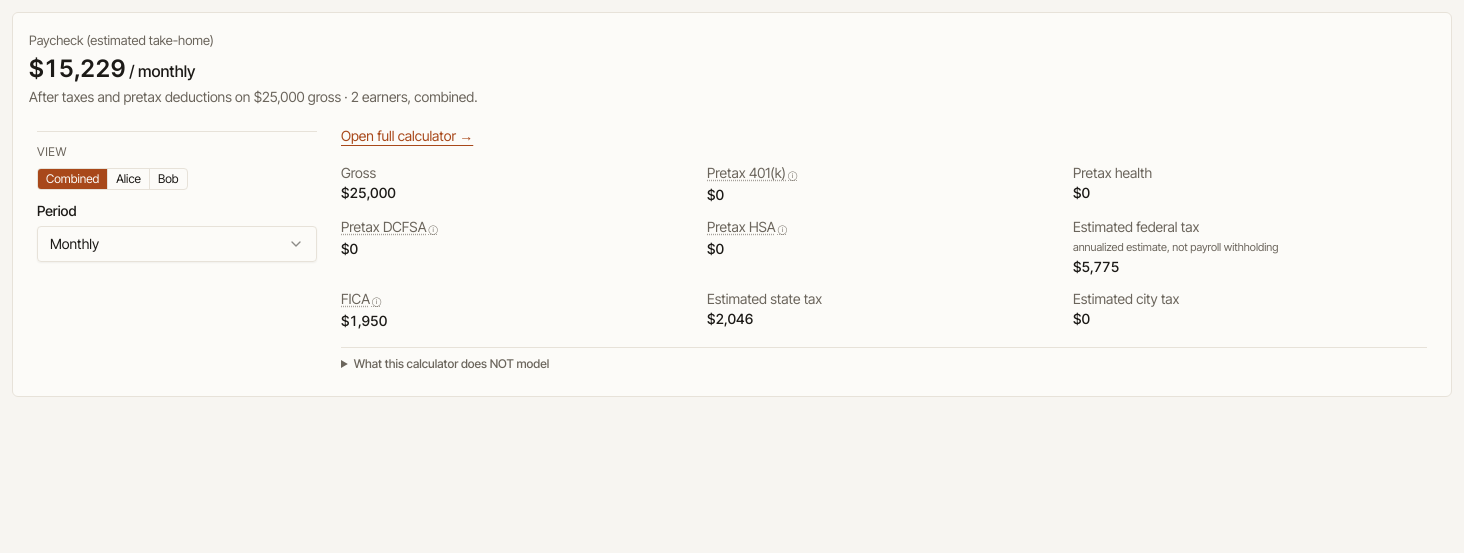
PaycheckCard › household FICA caps Social Security per earner (wave-9 F1)
Expected: the element with test id "paycheck-takehome" is shown, [29,54,196,82]
Annual period so the FICA row shows the yearly figure verbatim.
Click the dropdown named "period". click: (75, 243)
box: [37,226,317,262]
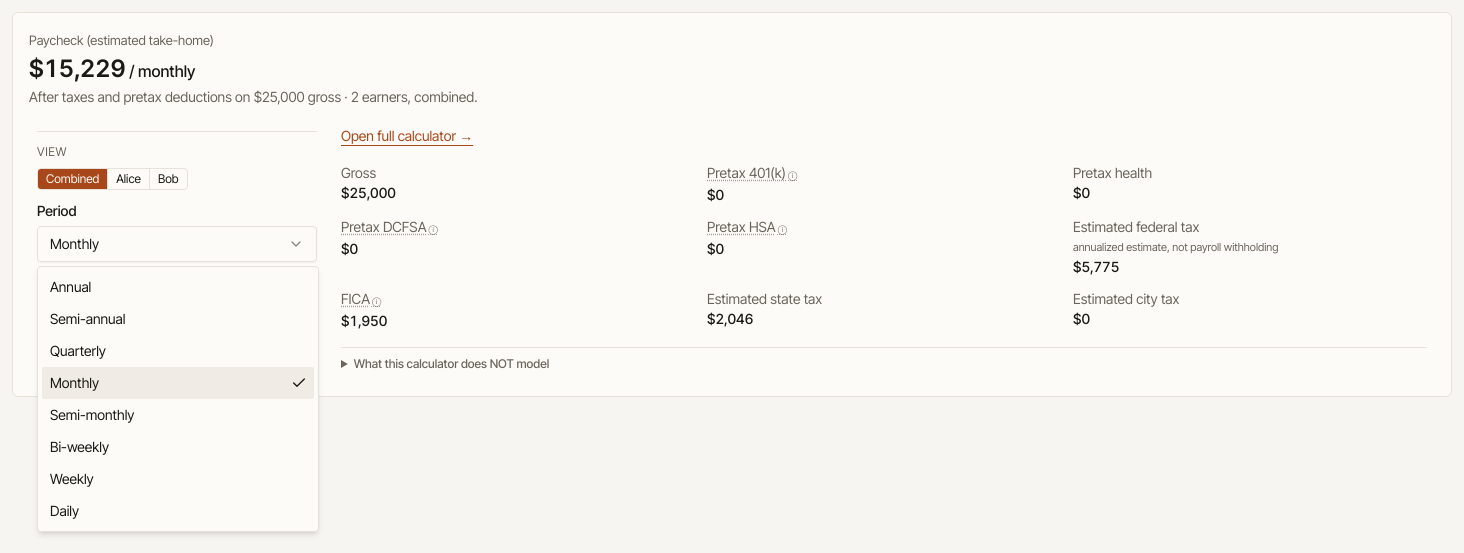
Click the option "Annual". click: (71, 286)
box: [50,278,91,295]
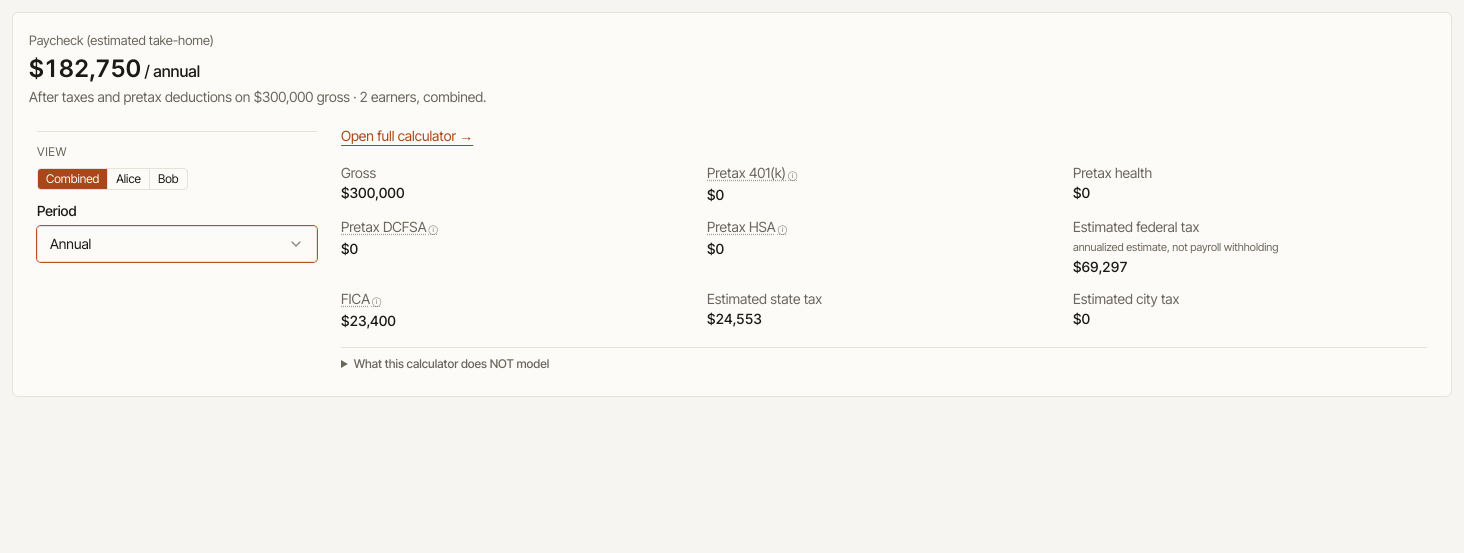
Now the text "$23,400" is shown, box [341,312,396,328]
